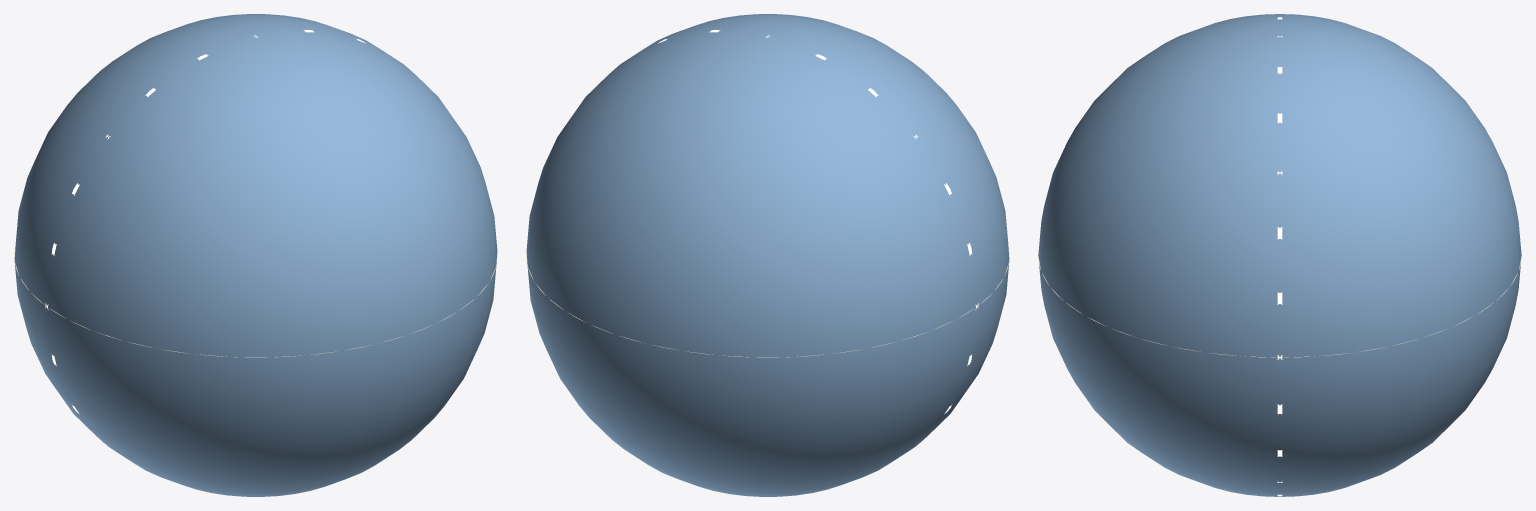
3 views of the same model, side by side, from view 1: azimuth 30°, elevation 25°; view 2: azimuth 150°, elevation 25°; view 3: azimuth 270°, elevation 25° (orthographic).
Visible parts, largest first — view 1: sky_dome; view 2: sky_dome; view 3: sky_dome.
Part boxes in pixels (x1,y1,x2,y2): sky_dome: (14, 14, 497, 496); sky_dome: (526, 14, 1009, 496); sky_dome: (1038, 14, 1521, 496).
Size of the model in its own units: 2 by 2 by 2.
